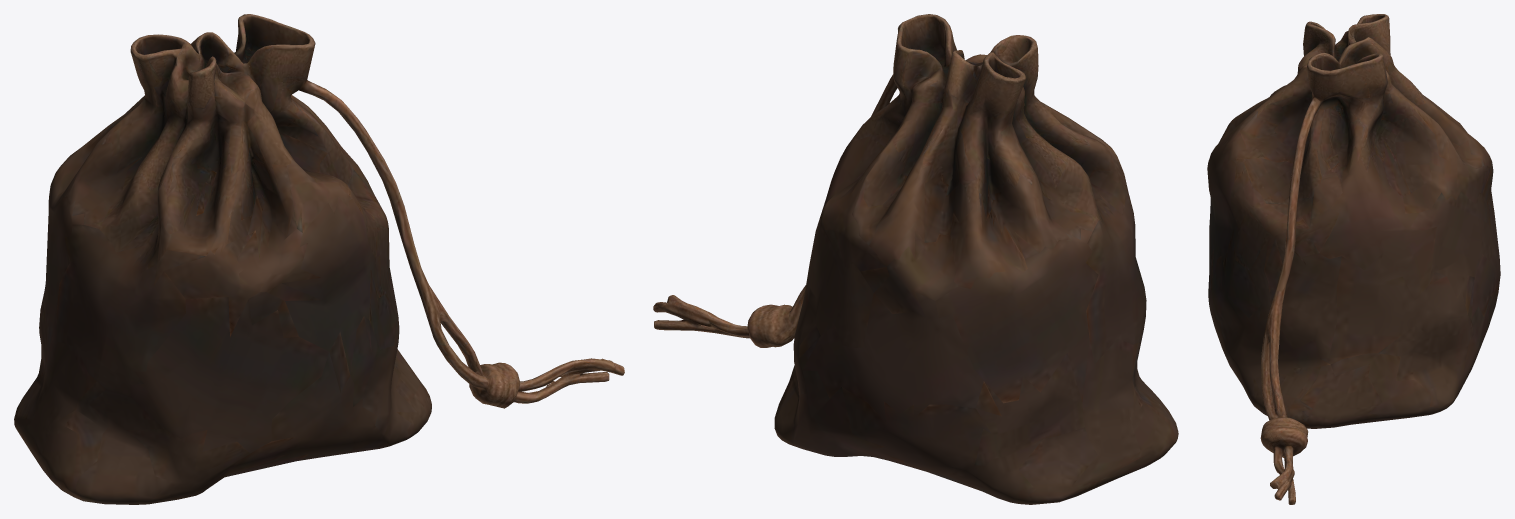
Rendered from pouch.glb.
3 renders of one model, left to right at view 1: azimuth 30°, elevation 25°; view 2: azimuth 150°, elevation 25°; view 3: azimuth 270°, elevation 25°, orthographic. The views are drawn at different scales.
Parts seen in each view (by area): view 1: Mesh_0; view 2: Mesh_0; view 3: Mesh_0.
Boxes of the visible parts, x1,y1,x2,y2 form: Mesh_0: (14, 14, 624, 504); Mesh_0: (653, 14, 1178, 504); Mesh_0: (1207, 14, 1500, 504).
Size of the model in its own units: 1.73 by 1.22 by 0.9869.
1 material, 1 textured.
